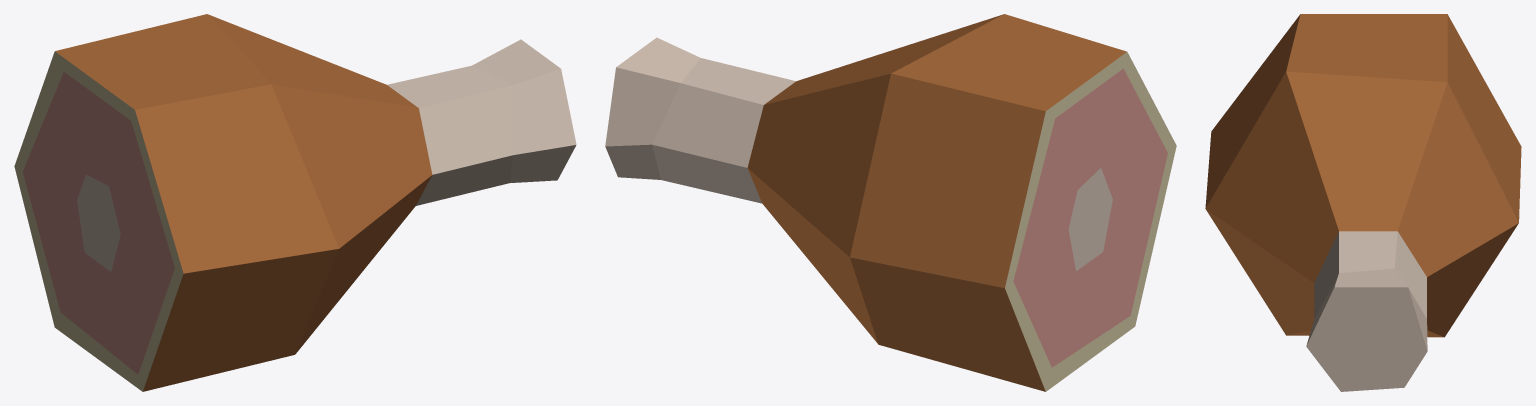
File: Meat2.fbx
3 views of the same model, side by side, from view 1: azimuth 30°, elevation 25°; view 2: azimuth 150°, elevation 25°; view 3: azimuth 270°, elevation 25° (orthographic). The views are drawn at different scales.
Parts seen in each view (by area): view 1: Cylinder; view 2: Cylinder; view 3: Cylinder.
Part boxes in pixels (x1=…): Cylinder: x1=14, y1=14, x2=576, y2=391; Cylinder: x1=605, y1=14, x2=1176, y2=391; Cylinder: x1=1205, y1=14, x2=1521, y2=391.
Bounding box in the file's own units: 0.5834 × 0.3464 × 0.3917.
